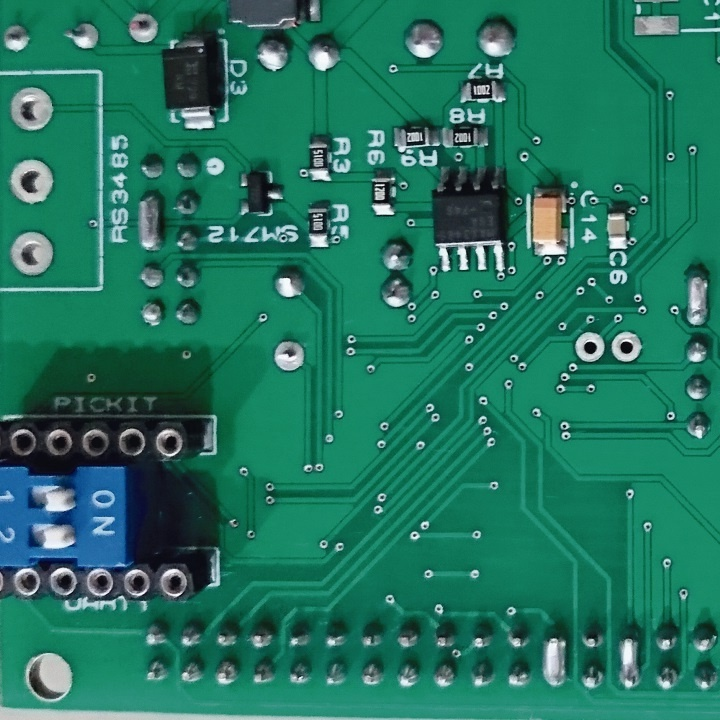F: (7, 156, 58, 209), (8, 229, 60, 280), (8, 86, 57, 135), (58, 19, 101, 56), (269, 338, 310, 375), (609, 328, 647, 365), (121, 12, 161, 47), (1, 23, 35, 59), (573, 329, 607, 363)
P: (132, 188, 167, 255), (681, 254, 712, 329), (617, 622, 644, 696), (541, 628, 571, 693)
